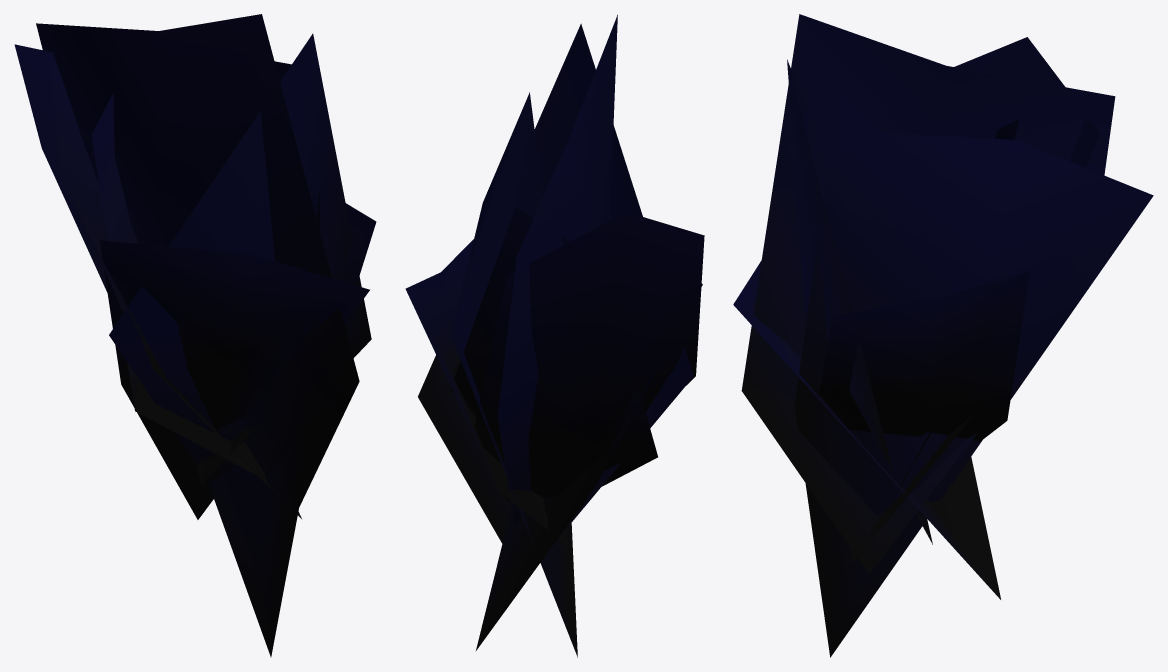
Rendered from SM_Foliage_ReedShoreA_01.fbx.
3 renders of one model, left to right at view 1: azimuth 30°, elevation 25°; view 2: azimuth 150°, elevation 25°; view 3: azimuth 270°, elevation 25°, orthographic. The views are drawn at different scales.
Parts seen in each view (by area): view 1: SM_Foliage_ReedShoreA_01; view 2: SM_Foliage_ReedShoreA_01; view 3: SM_Foliage_ReedShoreA_01.
Boxes of the visible parts, bbox=[...] form: SM_Foliage_ReedShoreA_01: bbox=[14, 14, 376, 657]; SM_Foliage_ReedShoreA_01: bbox=[405, 14, 704, 657]; SM_Foliage_ReedShoreA_01: bbox=[733, 14, 1153, 657].
Bounding box in the file's own units: 71.03 × 86.38 × 143.
